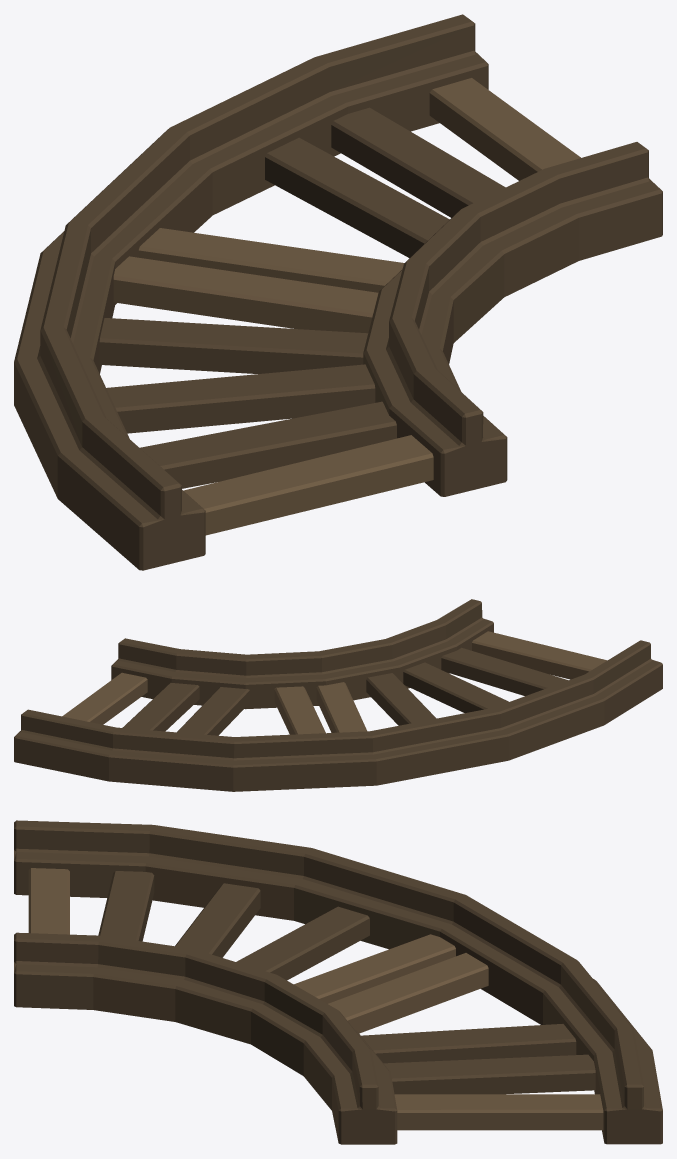
Rendered from ZLP_Build_F_8.FBX.
3 views of the same model, one above another, from view 1: azimuth 30°, elevation 25°; view 2: azimuth 150°, elevation 25°; view 3: azimuth 270°, elevation 25° (orthographic). The views are drawn at different scales.
Parts seen in each view (by area): view 1: ZLP_Build_F_8; view 2: ZLP_Build_F_8; view 3: ZLP_Build_F_8.
Part boxes in pixels (<box>): ZLP_Build_F_8: <box>14,14,662,570</box>; ZLP_Build_F_8: <box>14,599,662,791</box>; ZLP_Build_F_8: <box>14,820,662,1144</box>.
Bounding box in the file's own units: 201 × 20.11 × 201.
